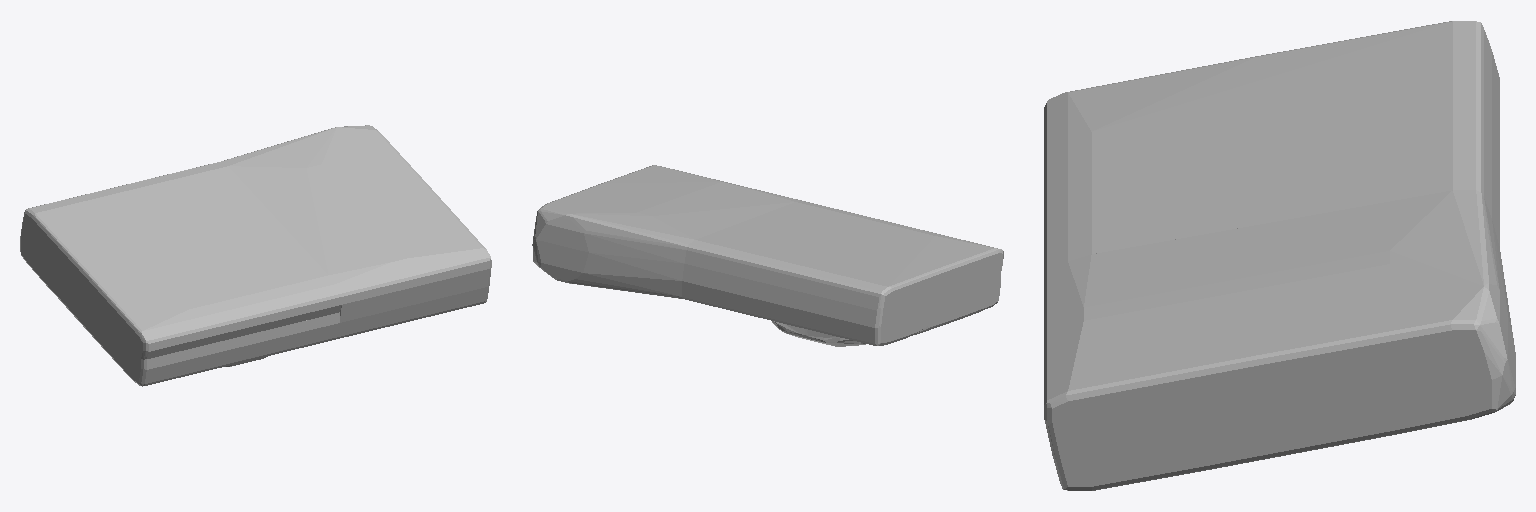
The robot description file, URDF, robot "root":
<?xml version="1.0"?>
<robot name="root">
  <link name="base_link">
    <visual>
      <origin xyz="0 0 0" rpy="0 0 0" />
      <geometry>
        <mesh filename="../meshes/unidex_core_camera-a8961c59576972cb57682b709eb0ab19_008.obj" scale="1.0000E+00 1.0000E+00 1.0000E+00" />
      </geometry>
      <material name="">
        <color rgba="7.50E-01 7.50E-01 7.50E-01 1" />
      </material>
    </visual>
    <collision>
      <origin xyz="0 0 0" rpy="0 0 0" />
      <geometry>
        <mesh filename="../meshes/unidex_core_camera-a8961c59576972cb57682b709eb0ab19_008.obj" scale="1.0000E+00 1.0000E+00 1.0000E+00" />
      </geometry>
    </collision>
  </link>
</robot>

--- What the picture shows (computed from the rendered views, not written in the file) ---
Views: 3 orthographic renders of the robot side by side, from view 1: azimuth 30°, elevation 25°; view 2: azimuth 150°, elevation 25°; view 3: azimuth 270°, elevation 25°.
Model root with 1 links and 0 joints (none), rooted at base_link, posed every joint at zero.
Links seen in each view (by area): view 1: base_link; view 2: base_link; view 3: base_link.
Boxes of the visible links, x1=… form: base_link: x1=20, y1=125, x2=491, y2=386; base_link: x1=532, y1=165, x2=1003, y2=346; base_link: x1=1044, y1=21, x2=1515, y2=490.
Bounding box of the posed robot: 0.1312 × 0.0856 × 0.0456 m (x, y, z).
Meshes: 1 distinct files referenced, 1 mesh visuals loaded (1 OBJ).
